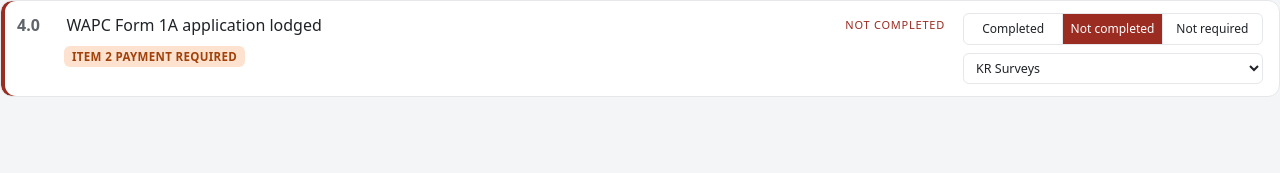
Test: useUpdateCheckpoint (through the card controls) › says the server can't be reached (no request id, one banner) when the request never arrives, and rolls back
Click the button "Completed" at (1014, 29), box [964,14,1063,44]
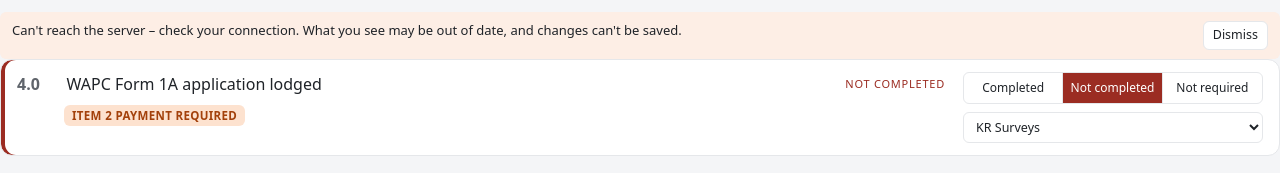
Now the text "Can't reach the server – check your connection. What you see may be out of date, and changes can't be saved." is shown, box [12,21,682,39]
